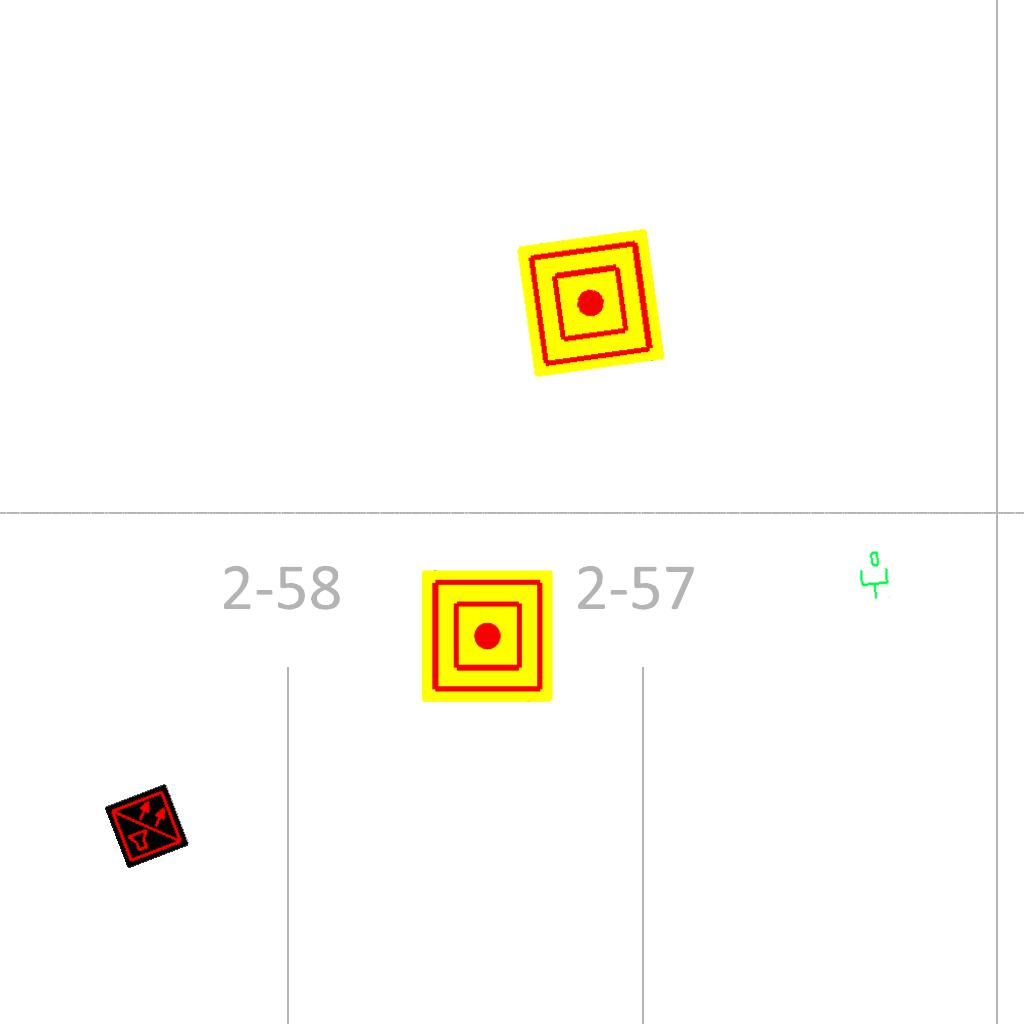Datenanschluss_einfach: (853, 548, 893, 602)
NAM-Nichtautomatischer_Melder: (516, 228, 666, 378), (421, 570, 553, 702)
OKW_Multisensormelder_(Kombination_optischer_Rauch-Kahlenmonoxid_Waerme-Melder): (104, 783, 190, 869)
